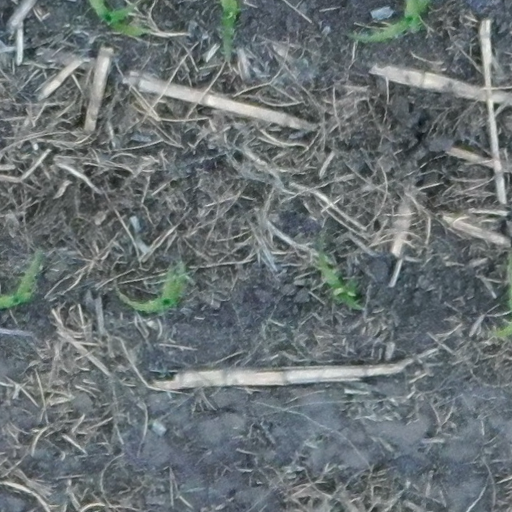planta: (316, 230, 364, 307), (115, 260, 186, 312)
